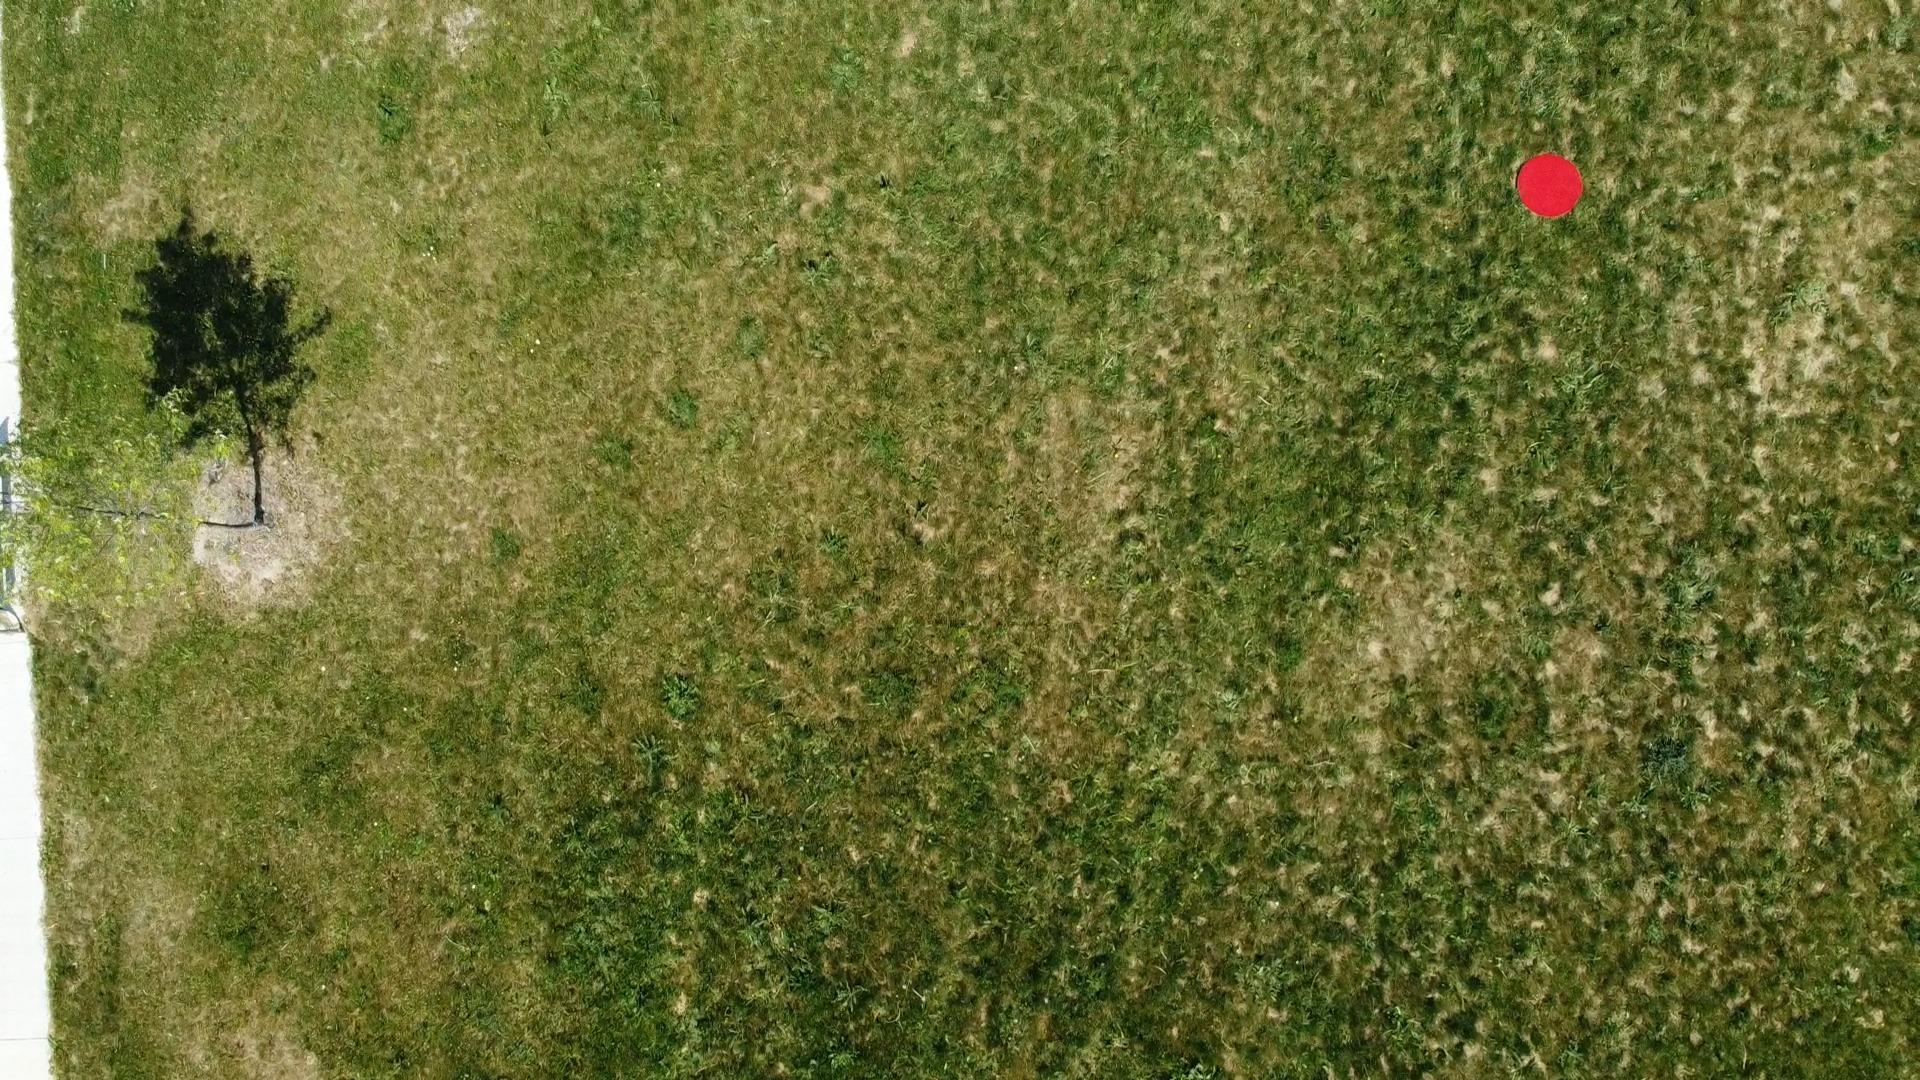Red: (1511, 149, 1586, 222)
